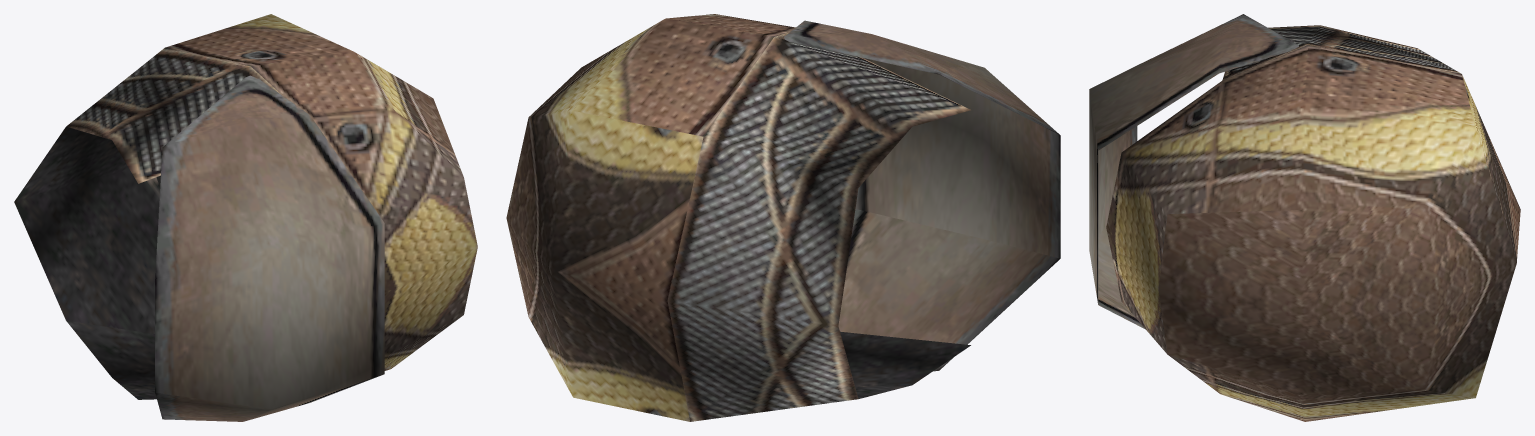
The model's file is Helmet6__CMG.glb.
3 renders of one model, left to right at view 1: azimuth 30°, elevation 25°; view 2: azimuth 150°, elevation 25°; view 3: azimuth 270°, elevation 25°, orthographic. The views are drawn at different scales.
Parts seen in each view (by area): view 1: Helmet6; view 2: Helmet6; view 3: Helmet6.
Boxes of the visible parts, box(x1,y1,x2,y2) form: Helmet6: box(14, 14, 477, 421); Helmet6: box(506, 14, 1060, 421); Helmet6: box(1089, 14, 1520, 421).
Bounding box in the file's own units: 13.81 × 11.5 × 13.39.
Materials: 1 (1 with a texture image).
